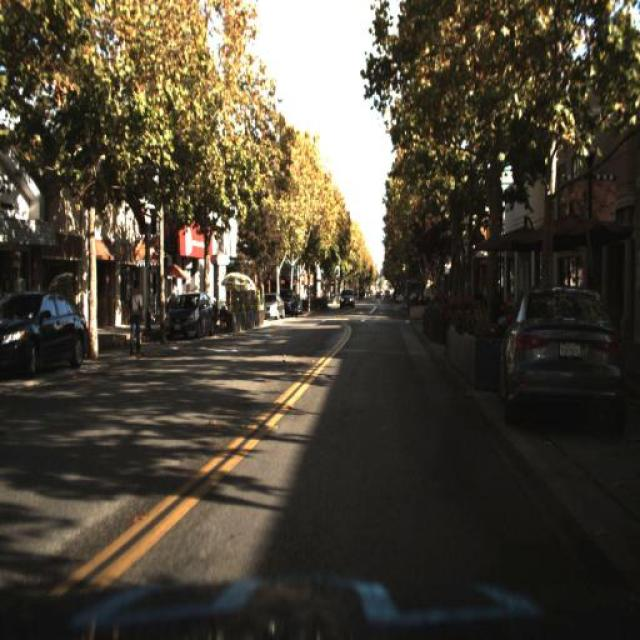car: (496, 281, 620, 420), (1, 290, 93, 380), (157, 290, 216, 342), (258, 292, 290, 326), (259, 292, 289, 322), (336, 285, 356, 314), (280, 286, 296, 322), (337, 288, 354, 311)
trafficLight: (124, 278, 144, 364)
